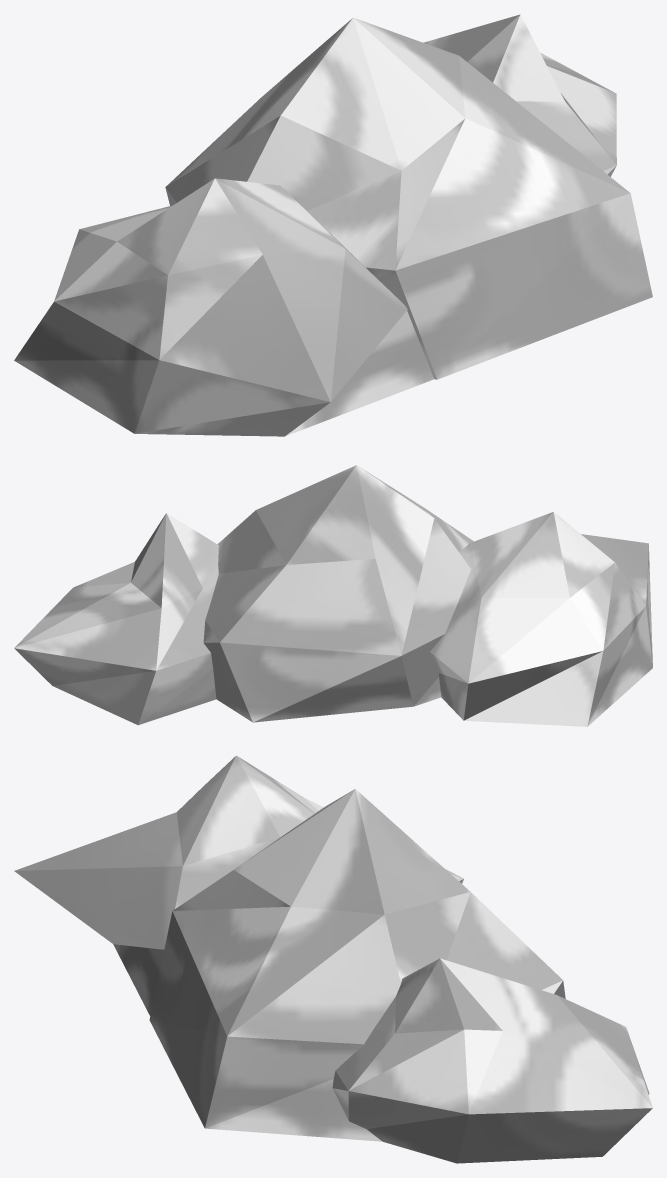
The model's file is bramble_2.obj.
The picture shows the model from 3 angles, top to bottom: view 1: azimuth 30°, elevation 25°; view 2: azimuth 150°, elevation 25°; view 3: azimuth 270°, elevation 25°; orthographic projection. The views are drawn at different scales.
Visible parts, largest first — view 1: bramble_2; view 2: bramble_2; view 3: bramble_2.
Boxes of the visible parts, box(x1,y1,x2,y2) form: bramble_2: box(14, 14, 652, 436); bramble_2: box(14, 465, 652, 726); bramble_2: box(14, 755, 652, 1163).
Size of the model in its own units: 0.7219 by 0.286 by 0.6772.
